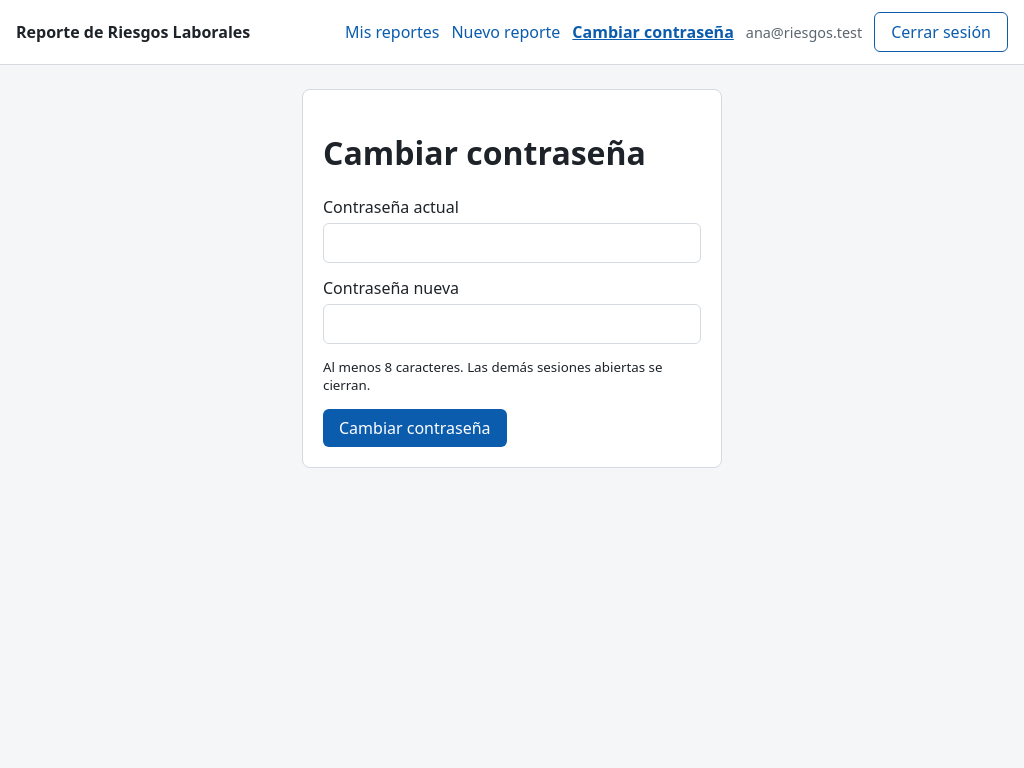
Test: Cambiar contraseña › envía la actual y la nueva y confirma el cambio
Type "Clave12345" into the password field labelled "Contraseña actual".
click(512, 243); type("Clave12345")  # box [323, 223, 701, 263]
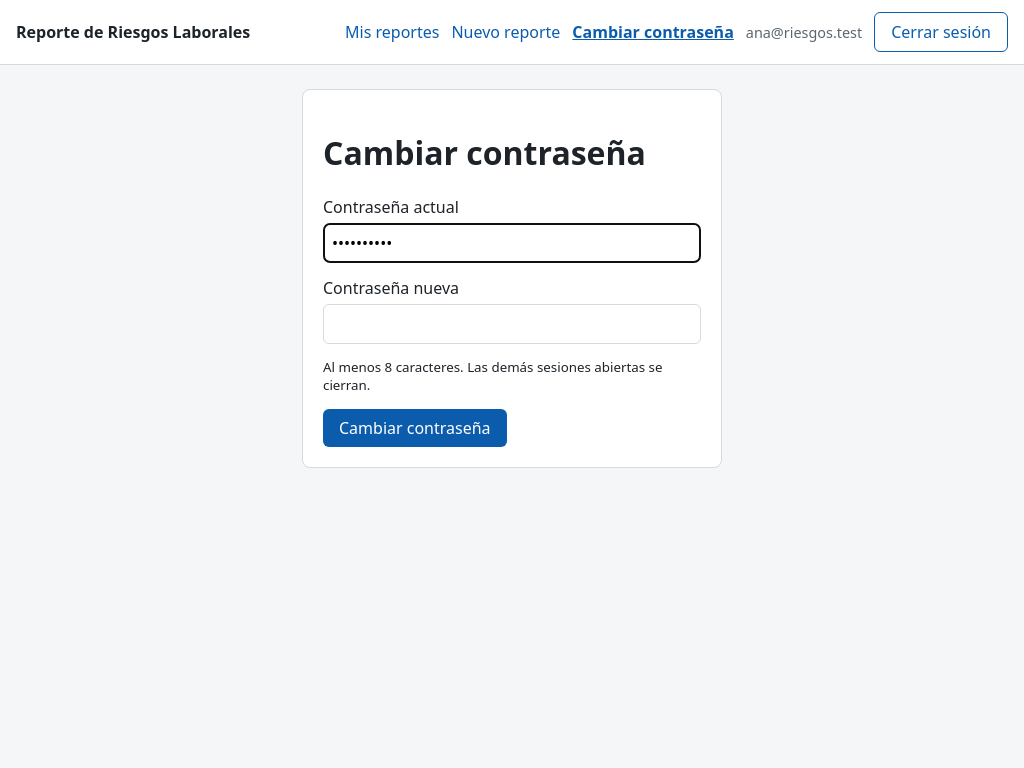
Type "NuevaClave2026" into the password field labelled "Contraseña nueva".
click(512, 324); type("NuevaClave2026")  # box [323, 304, 701, 344]
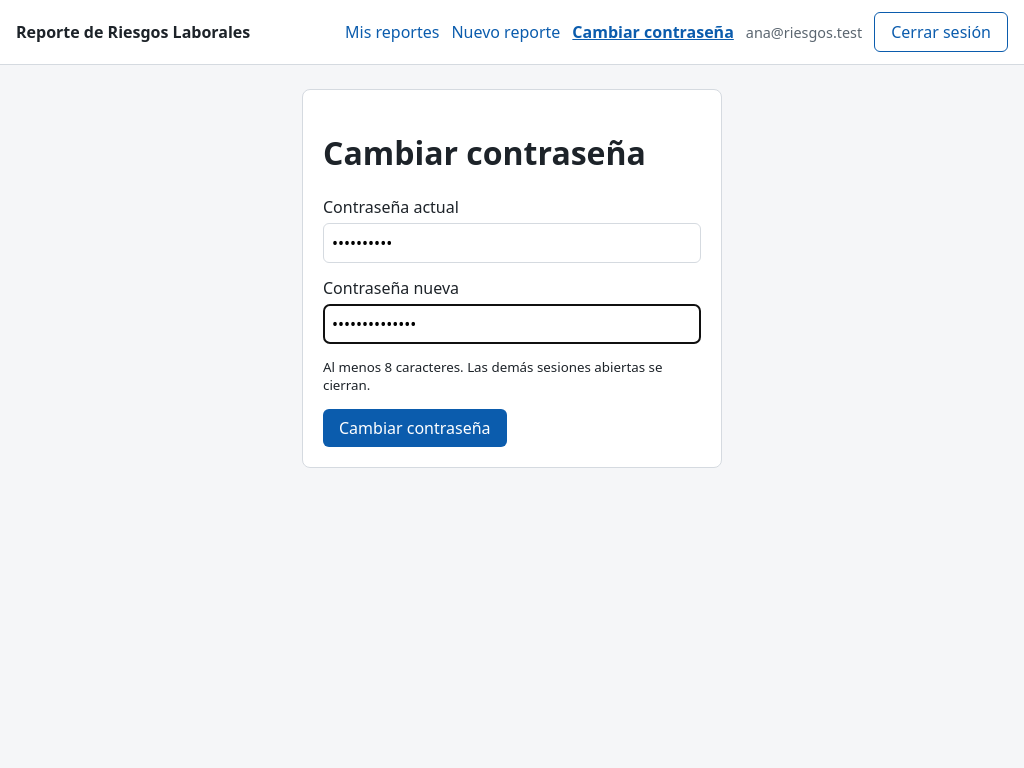
Click the button "Cambiar contraseña".
click(415, 428)  # box [323, 409, 507, 447]
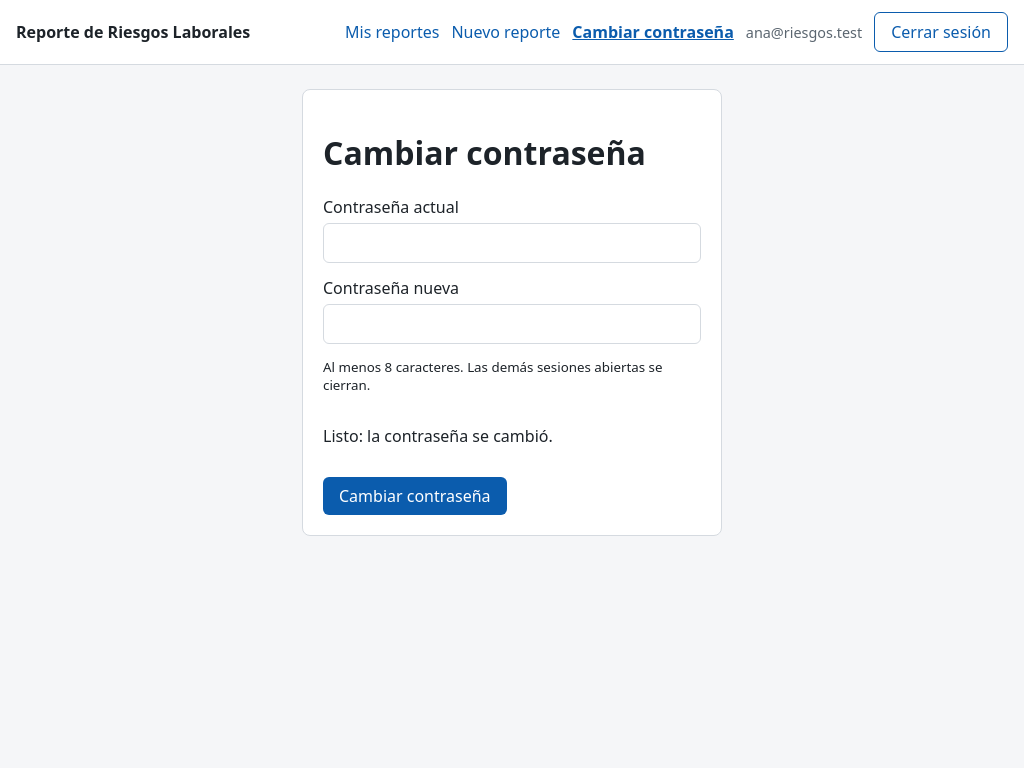
Now the message shows "la contraseña se cambió", box [323, 425, 553, 447]
